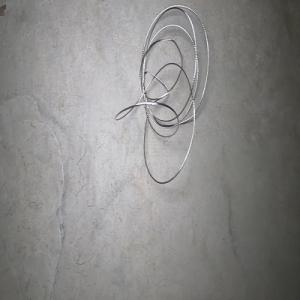Wire: (114, 4, 209, 183)
